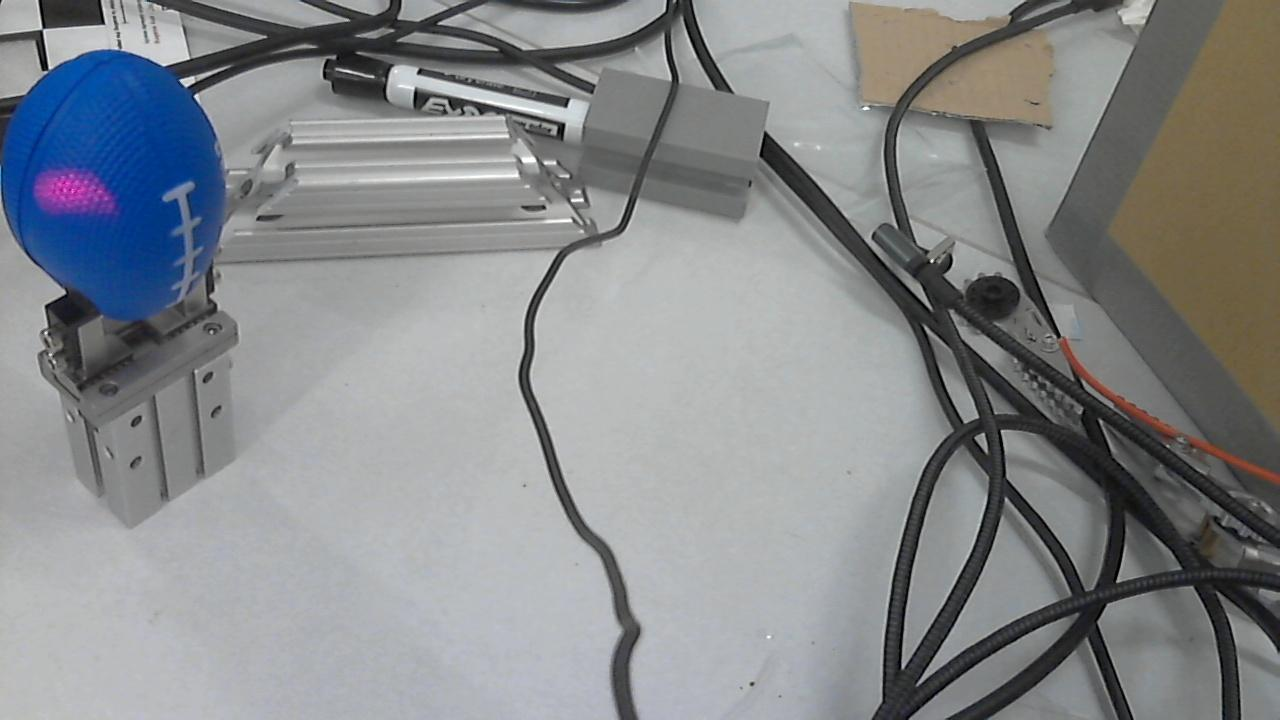Object toy football - Material foam - Color blue - Pdfname VT1ffZoLOnKv: (25, 161, 128, 236)
